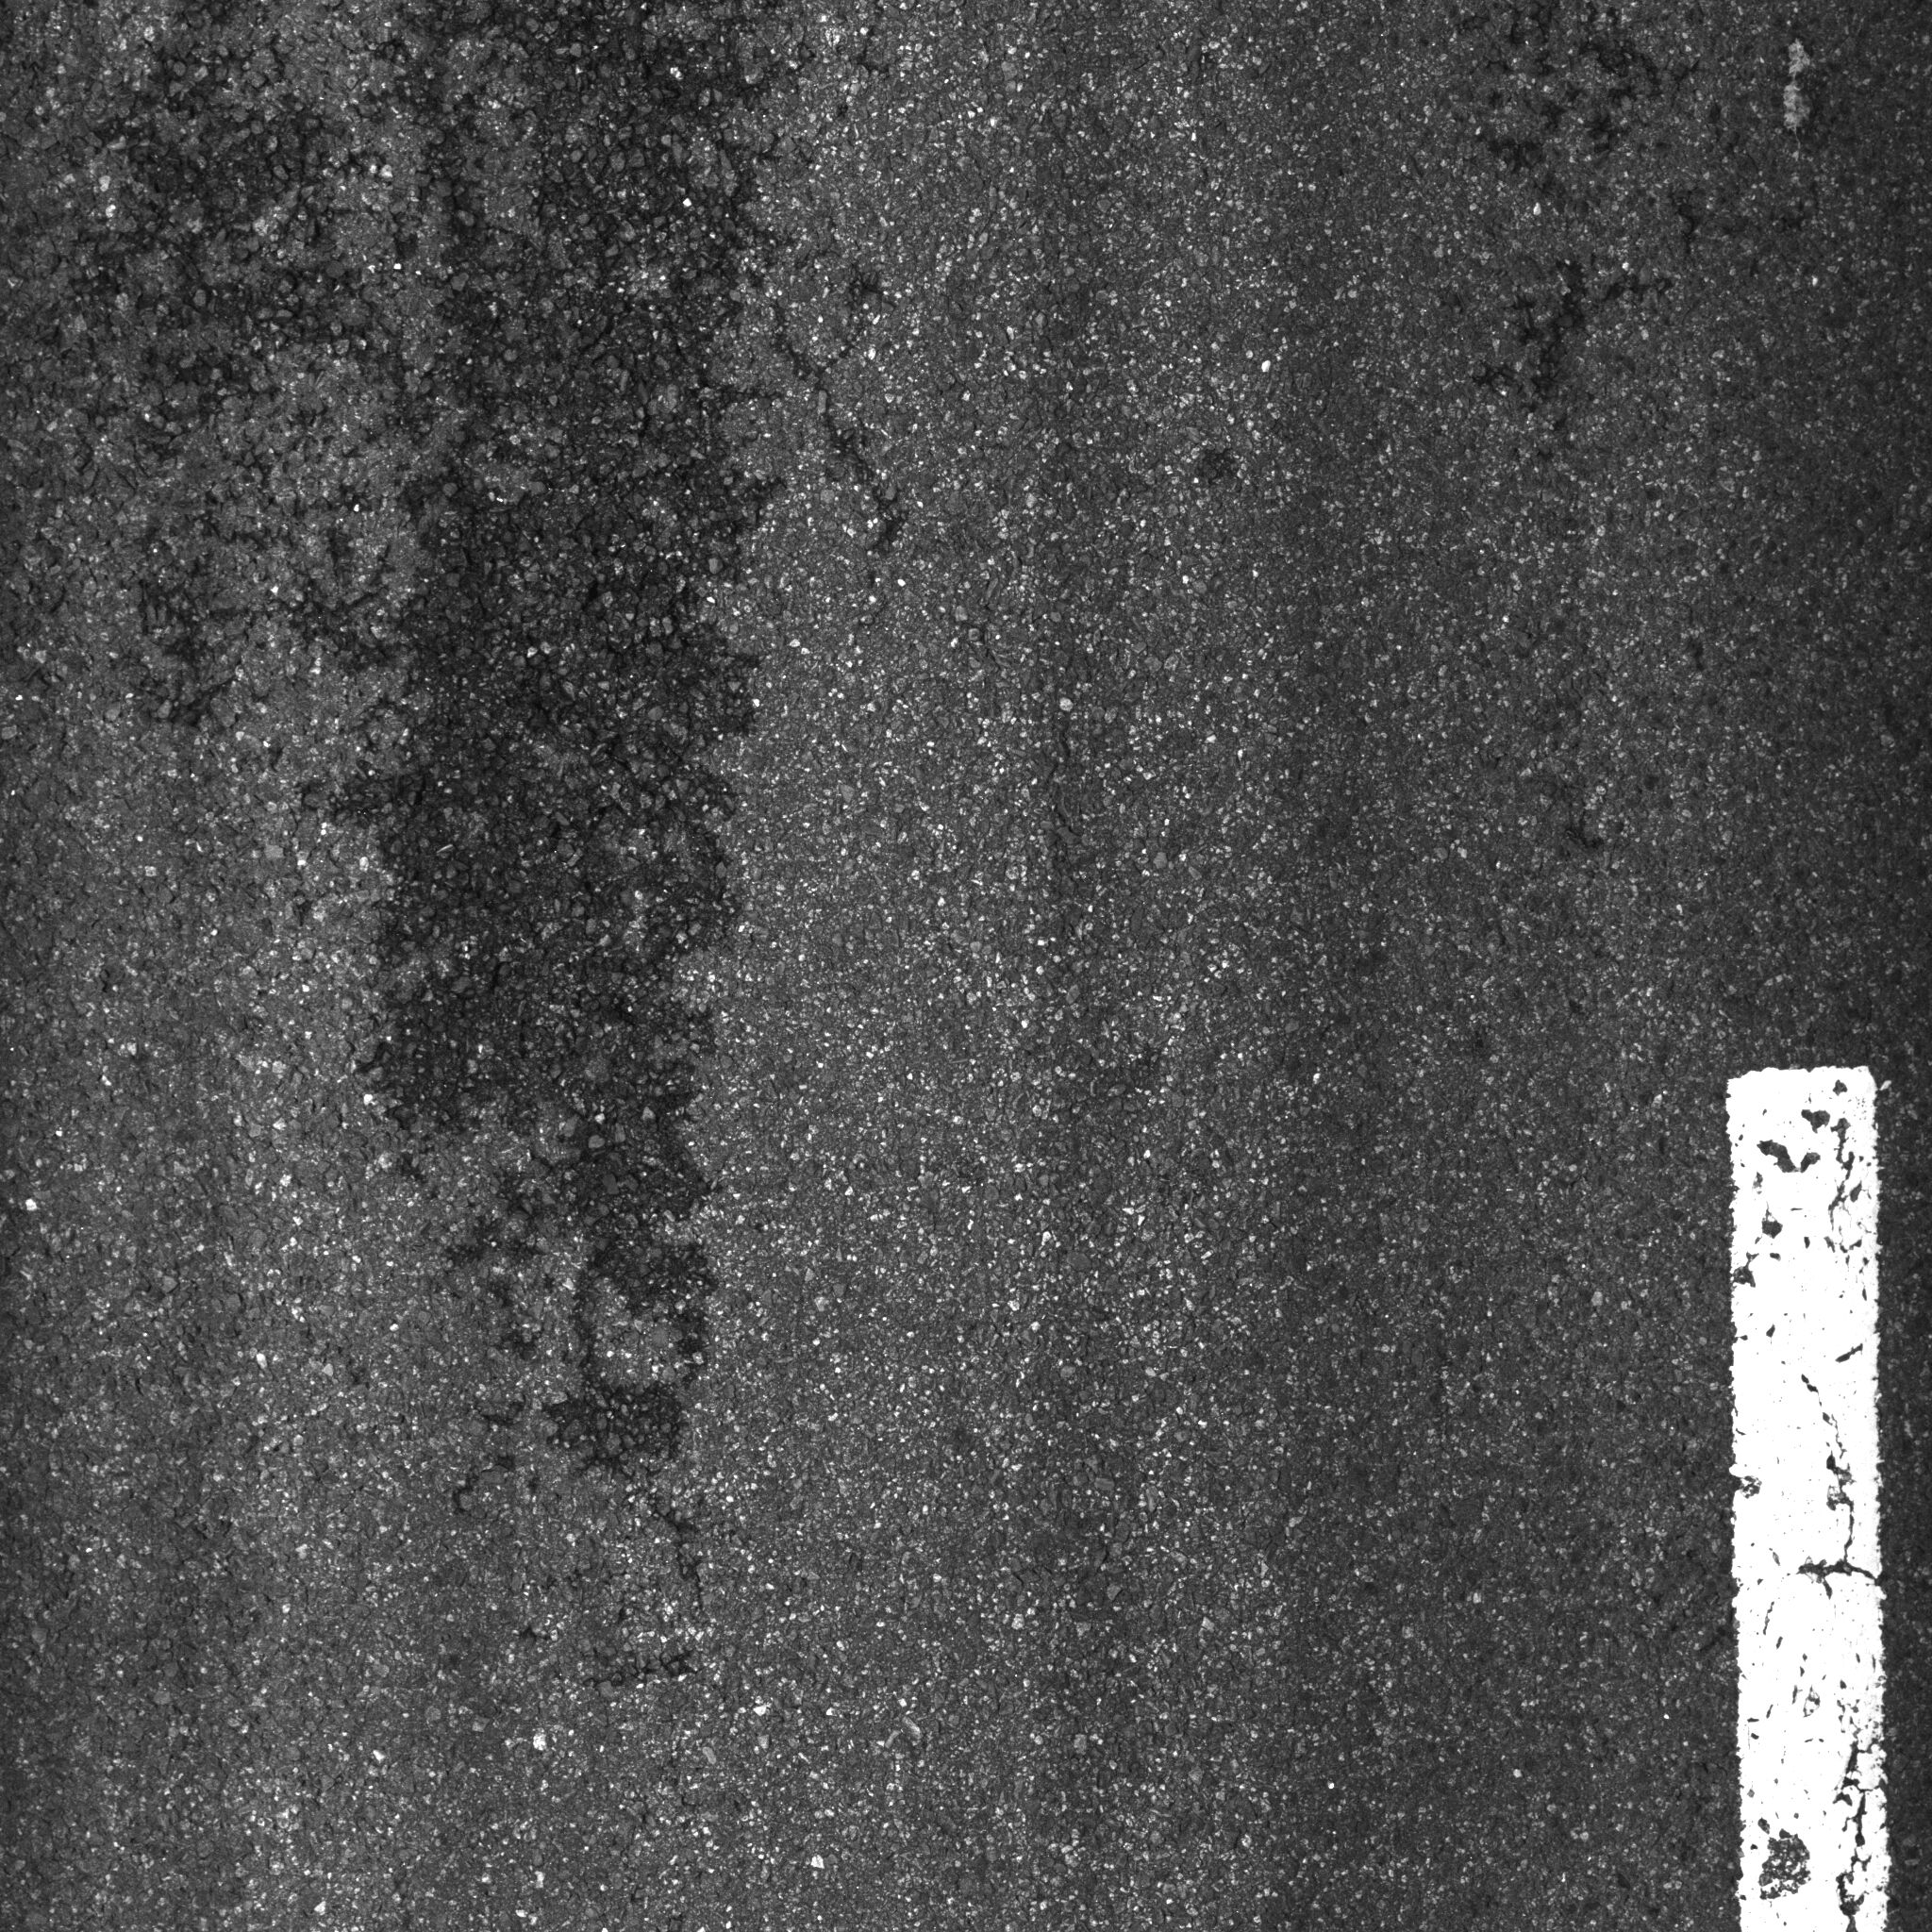alligator: (41, 7, 888, 1509)
